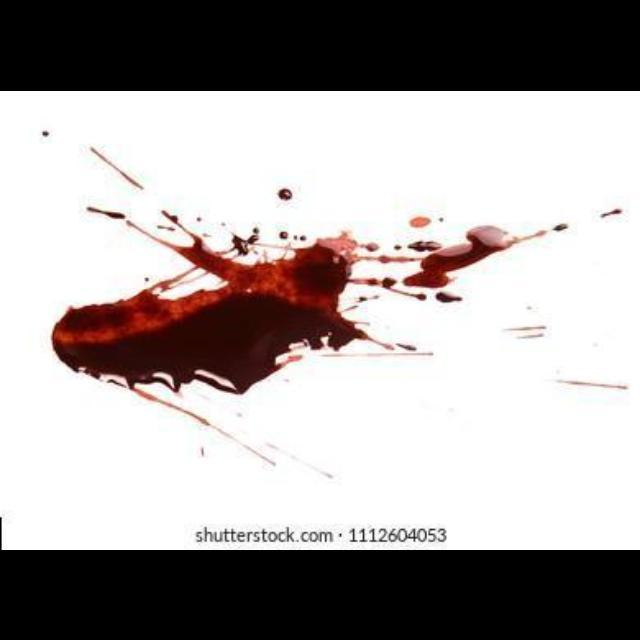blood: (53, 207, 381, 393), (405, 226, 546, 286), (131, 389, 212, 426), (90, 147, 144, 188), (350, 277, 427, 299), (233, 226, 259, 253), (354, 255, 423, 262), (397, 344, 435, 356), (281, 231, 307, 248), (409, 239, 443, 250), (410, 216, 432, 227), (437, 292, 461, 302), (602, 209, 625, 217), (279, 187, 294, 199), (555, 223, 569, 230), (41, 129, 48, 135)
